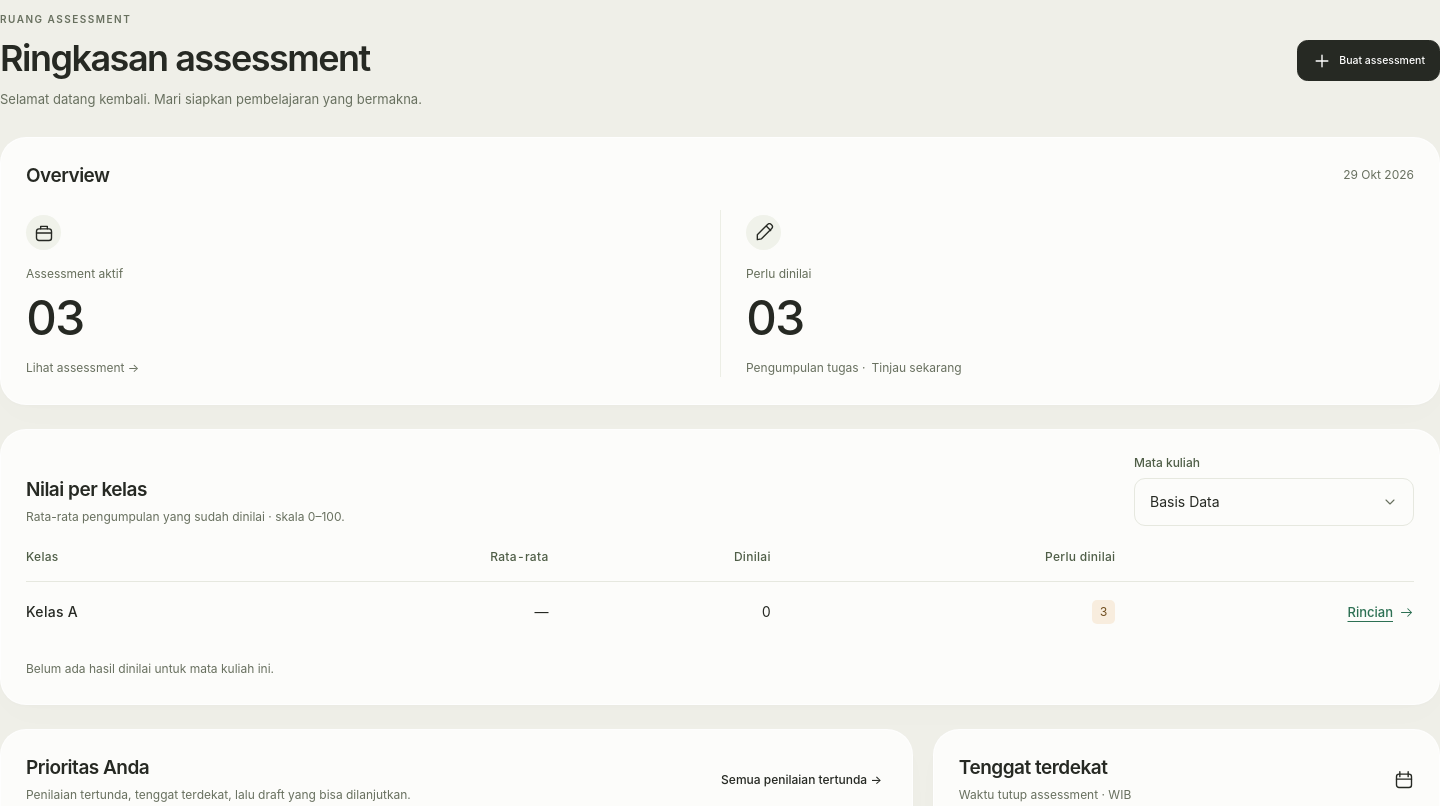
Test: class comparison and class register › shows course-specific class grades and opens the correctly scoped register
Click the dropdown labelled "Basis Data" at (1185, 502), box [1134,478,1414,526]
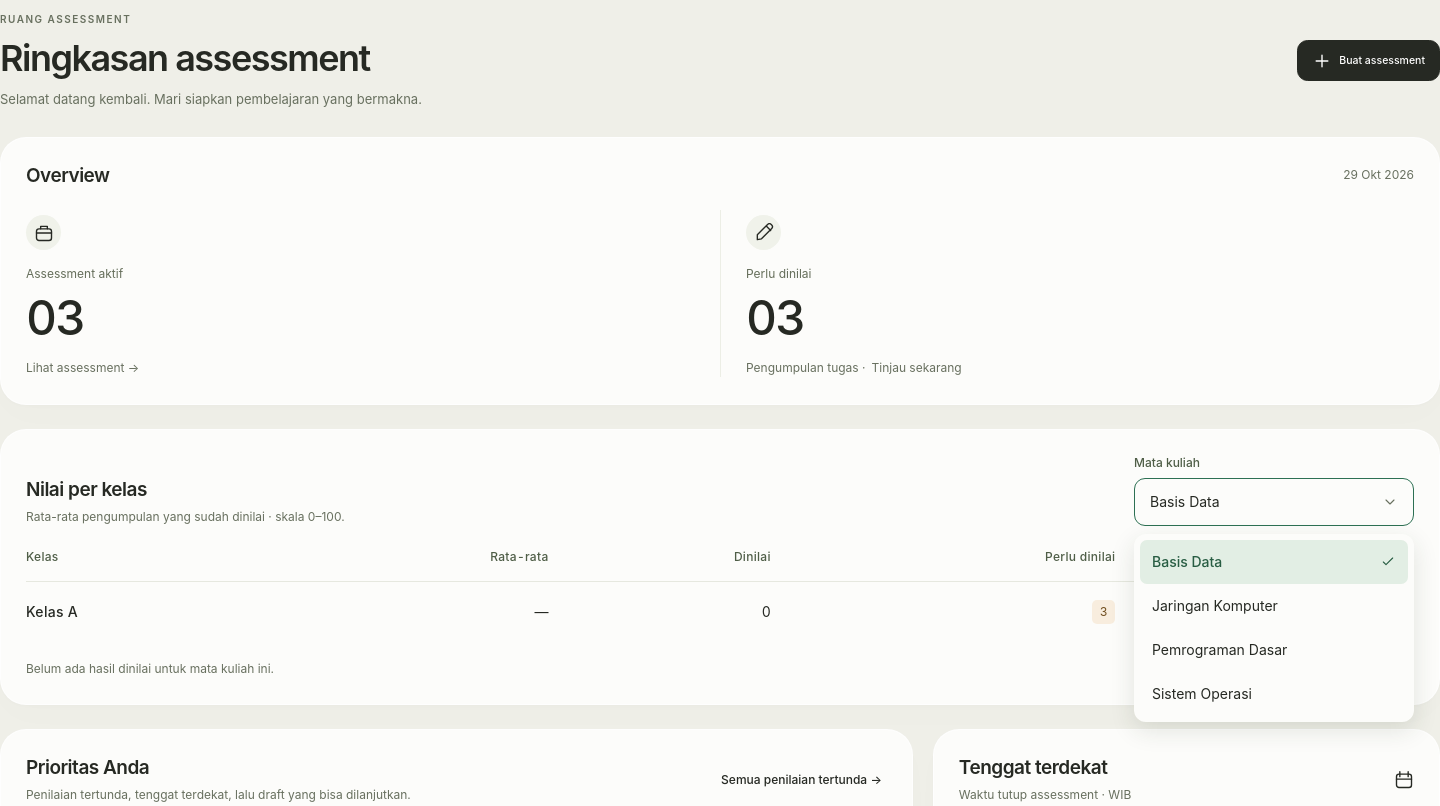
Click the option with class "soft-field-option" showing "Jaringan Komputer" at (1215, 606), box [1152,597,1278,614]
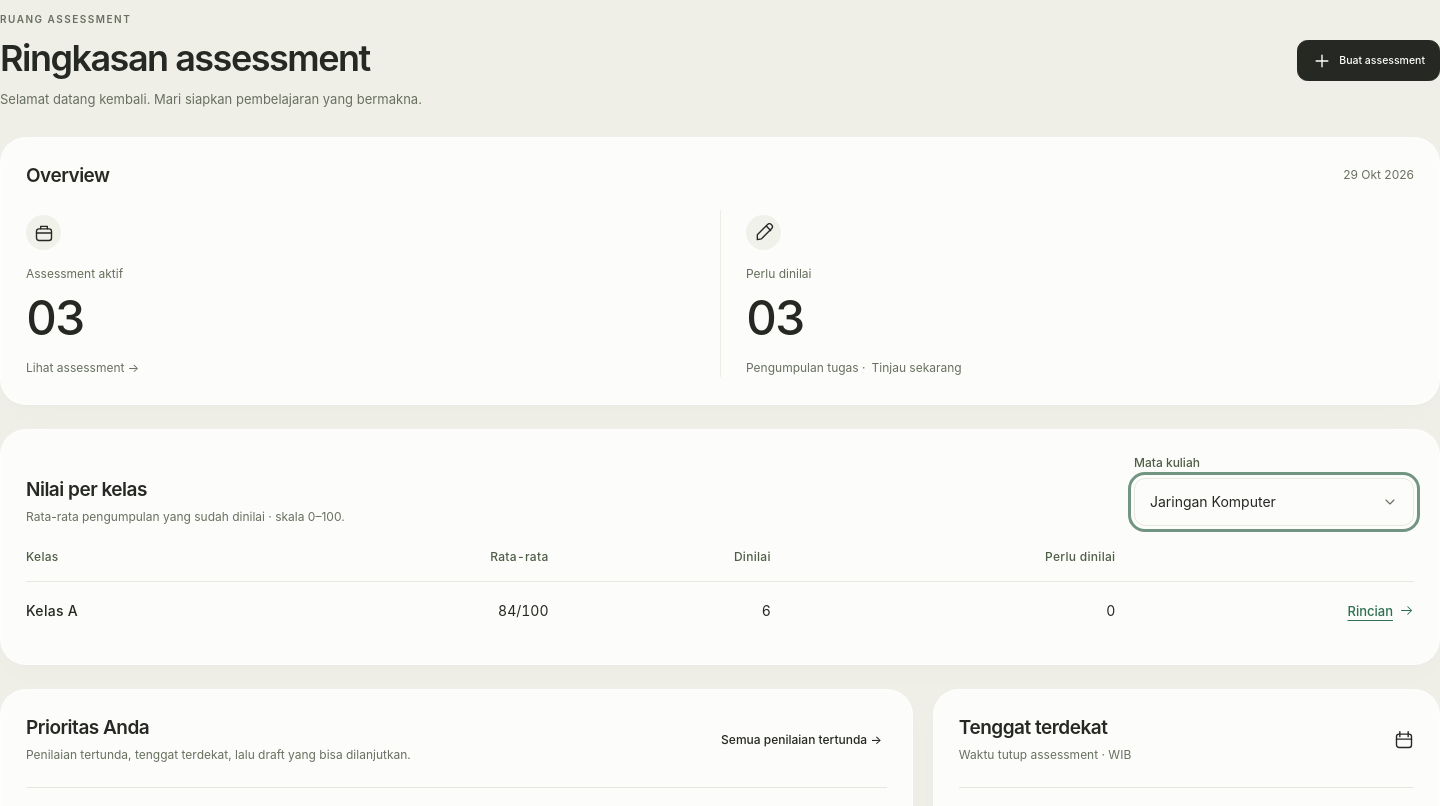
Result: the cell with class "class-grade-average" reads "84/100" at [498,602,548,619]
Click the link with class "register-link" at (1381, 611), box [1348,601,1414,621]
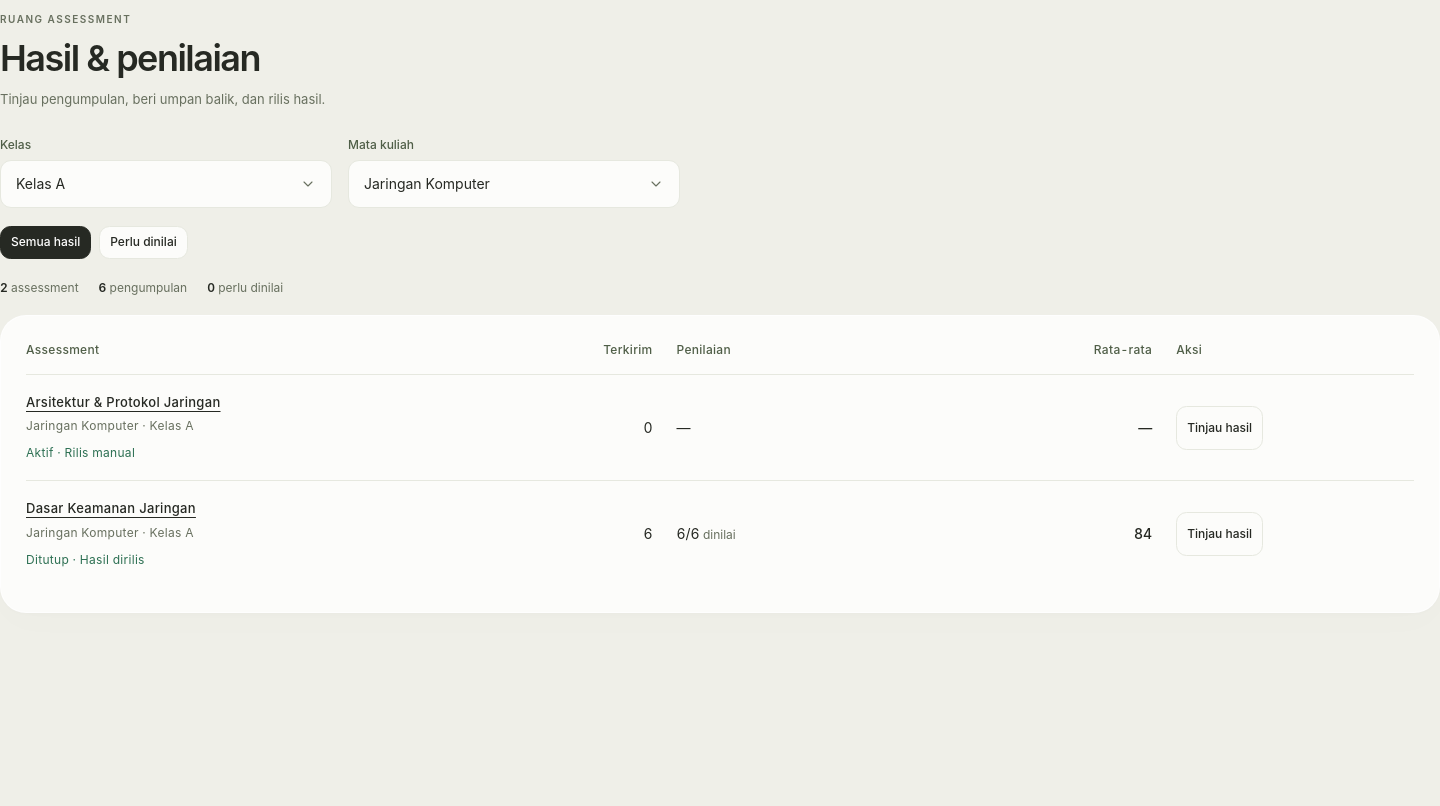
Result: the number of rows with class "result-register-row" is 2 at [26,374,1414,481]; [26,481,1414,587]
Result: the element with class "register-summary" shows "6 pengumpulan" at [0,280,283,294]
